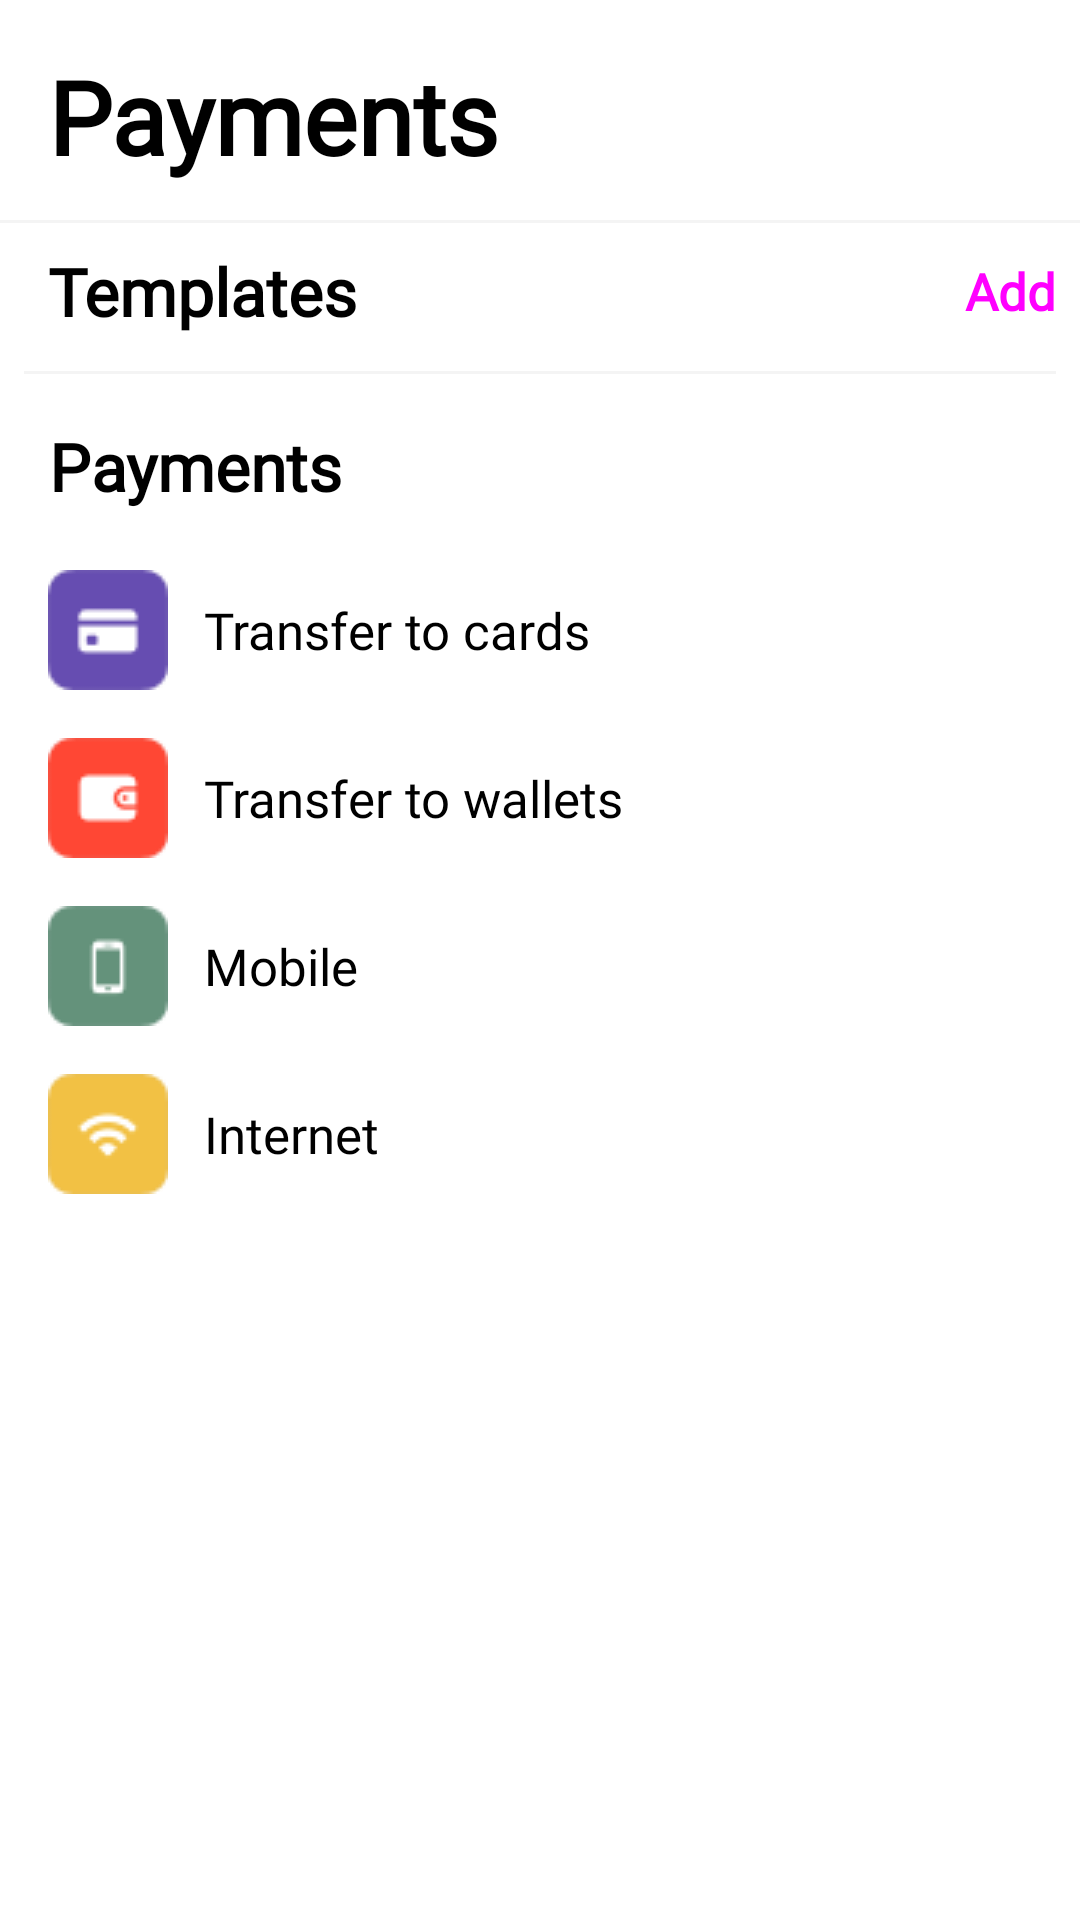

Where to tap for icons on this 1080x1920 app screen, as point (x, y):
payments wallet: point (108, 798)
